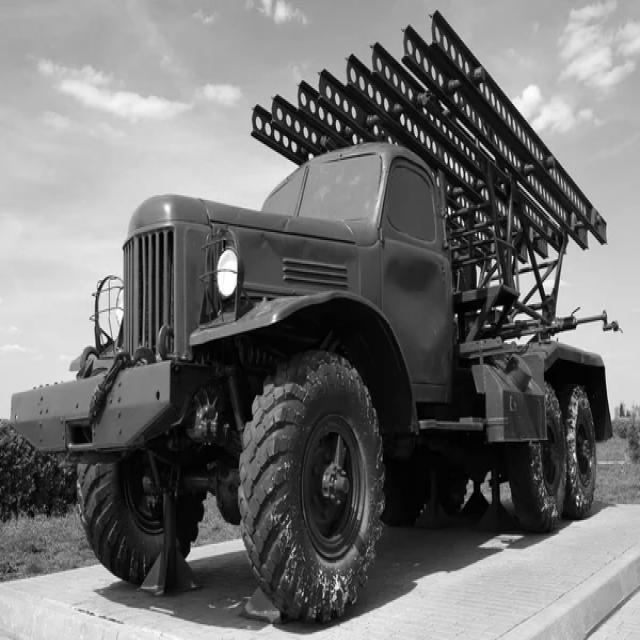Truck: (9, 11, 620, 622)
